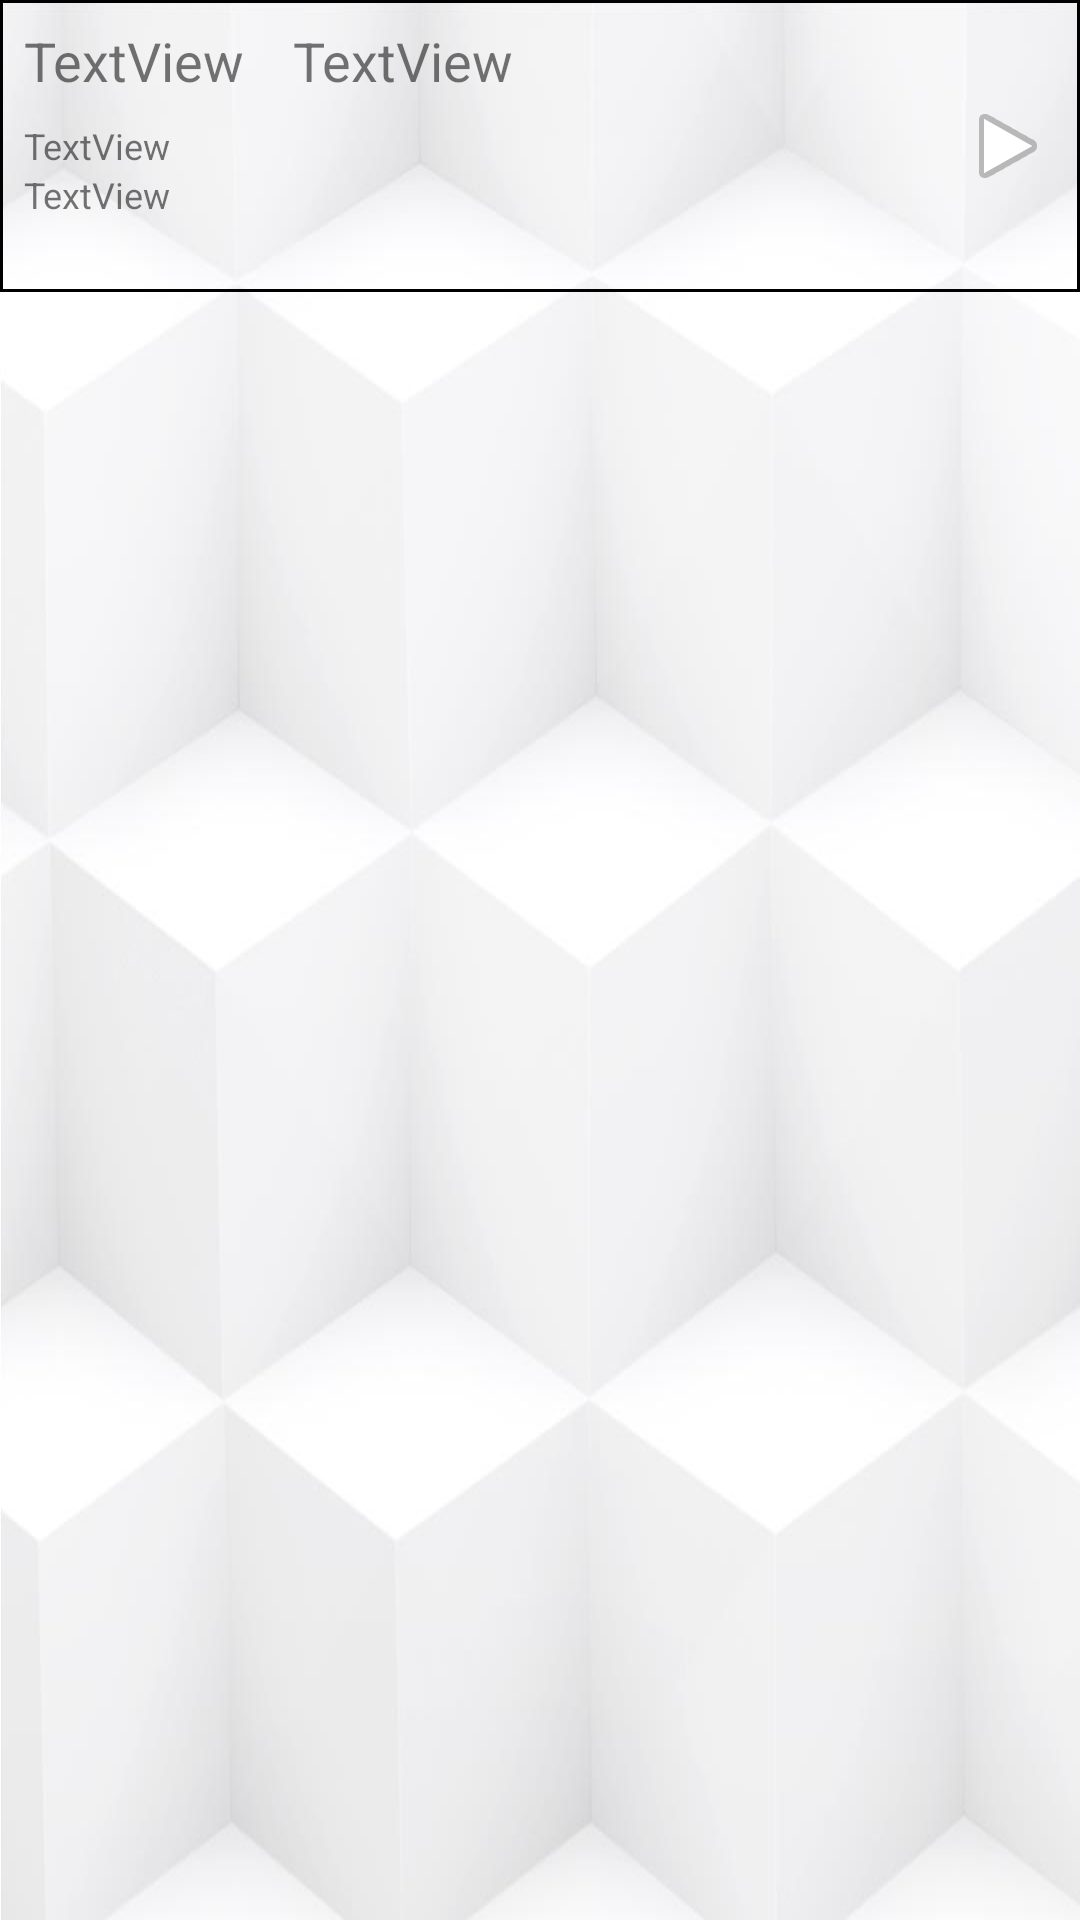

Named icons in this screenshot (1080px x 1920px) and their centers, point (x, y):
play: point (1008, 146)
